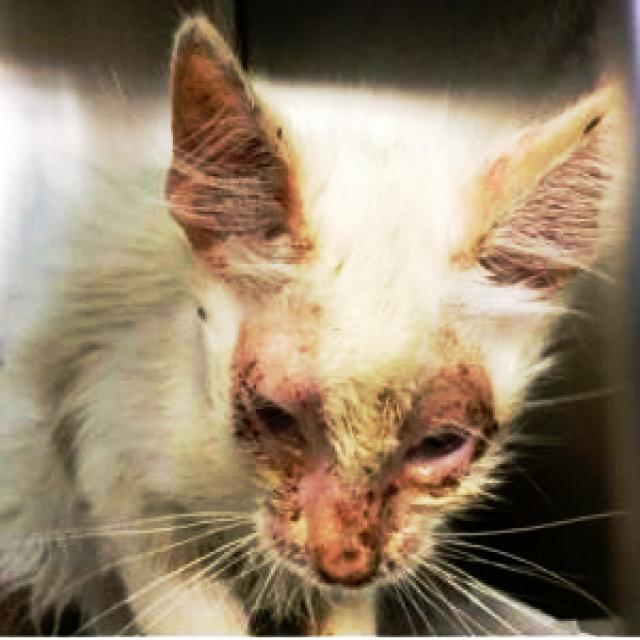ringworm: (246, 340, 330, 422), (323, 475, 399, 552), (420, 352, 500, 425), (266, 438, 308, 510)
